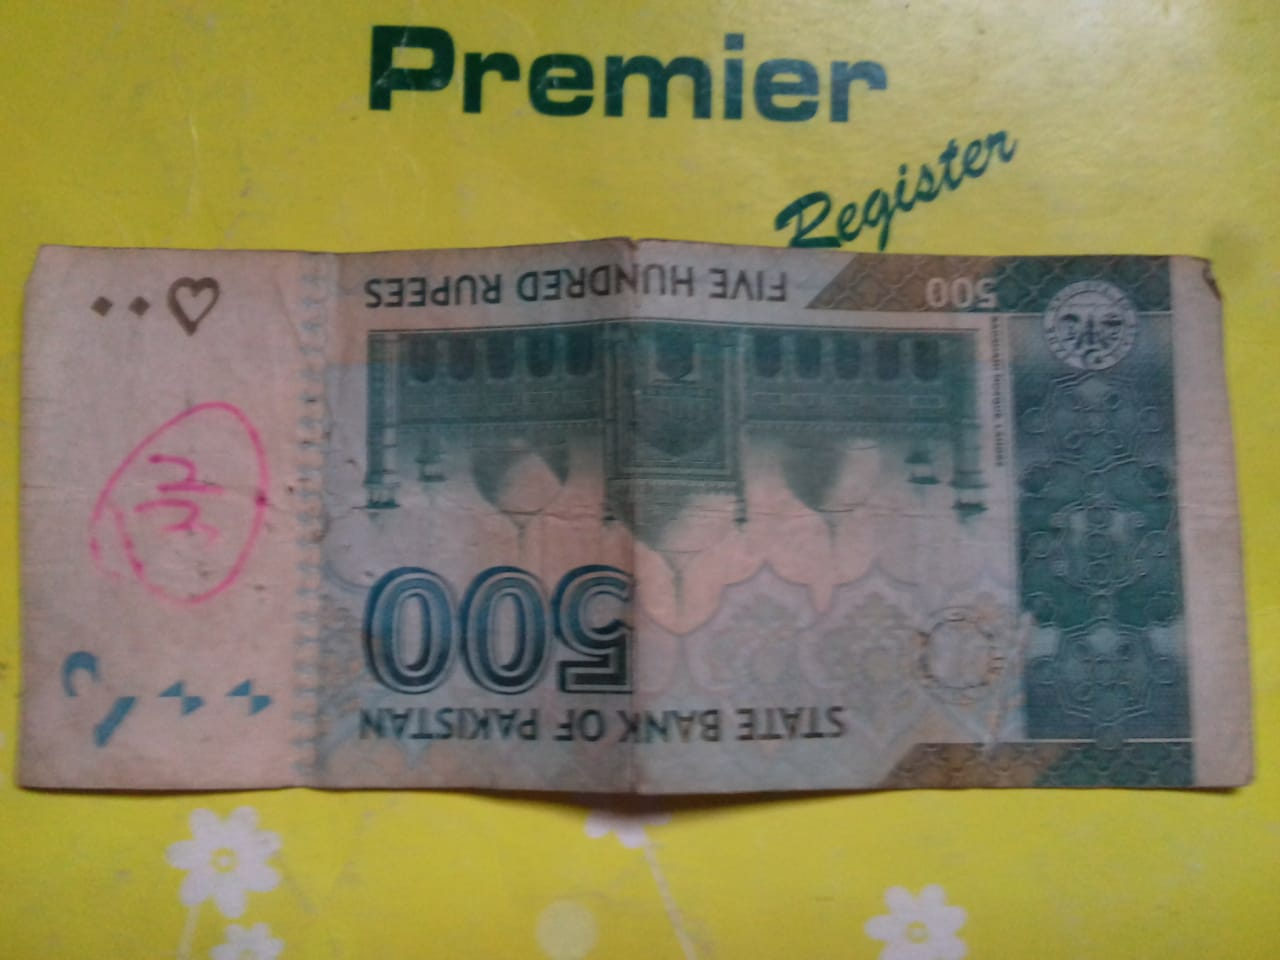500 rupee: (33, 227, 1220, 846)
